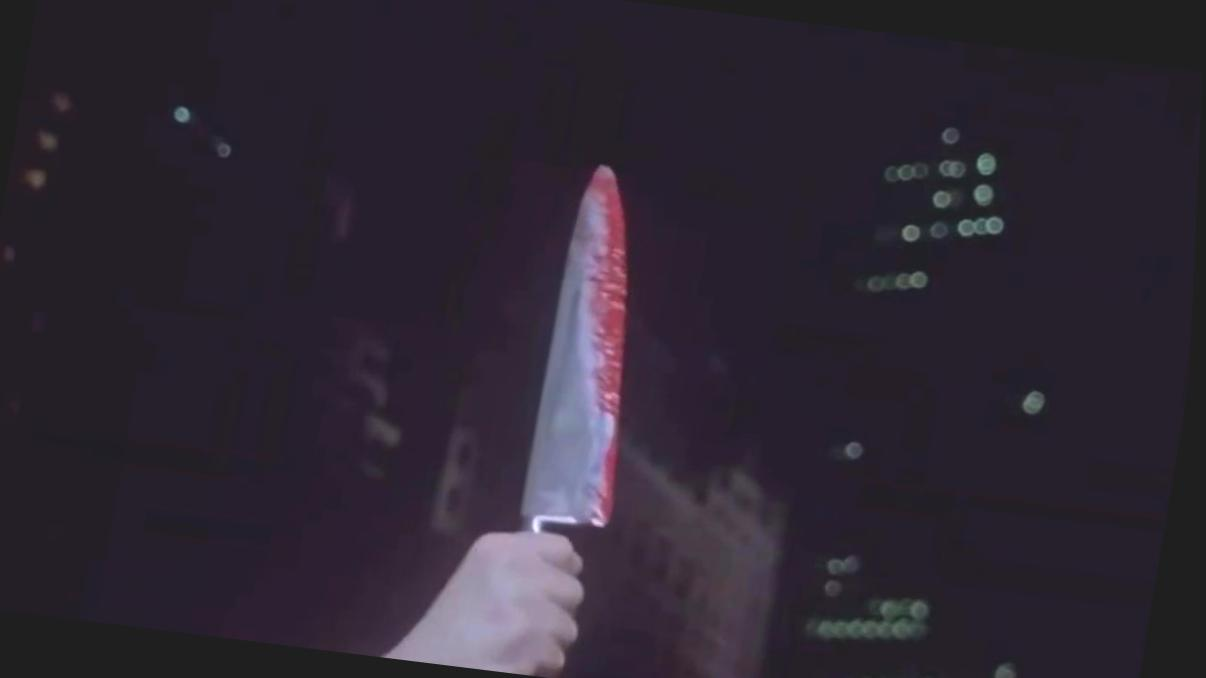Fire: (586, 164, 629, 525)
